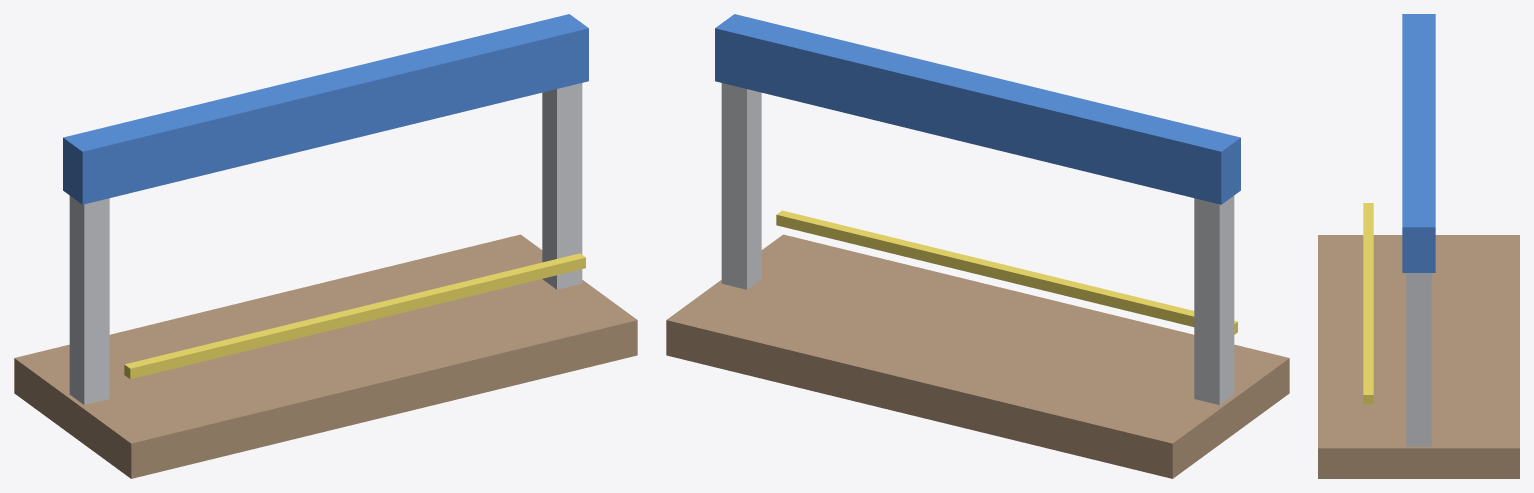
The model's file is start_gate.glb.
3 renders of one model, left to right at view 1: azimuth 30°, elevation 25°; view 2: azimuth 150°, elevation 25°; view 3: azimuth 270°, elevation 25°, orthographic. The views are drawn at different scales.
Visible parts, largest first — view 1: start_gate; view 2: start_gate; view 3: start_gate.
Part boxes in pixels (x1,y1,x2,y2): start_gate: (14, 14, 637, 478); start_gate: (666, 14, 1289, 478); start_gate: (1318, 14, 1519, 478).
Size of the model in its own units: 3 by 1.65 by 1.2.
